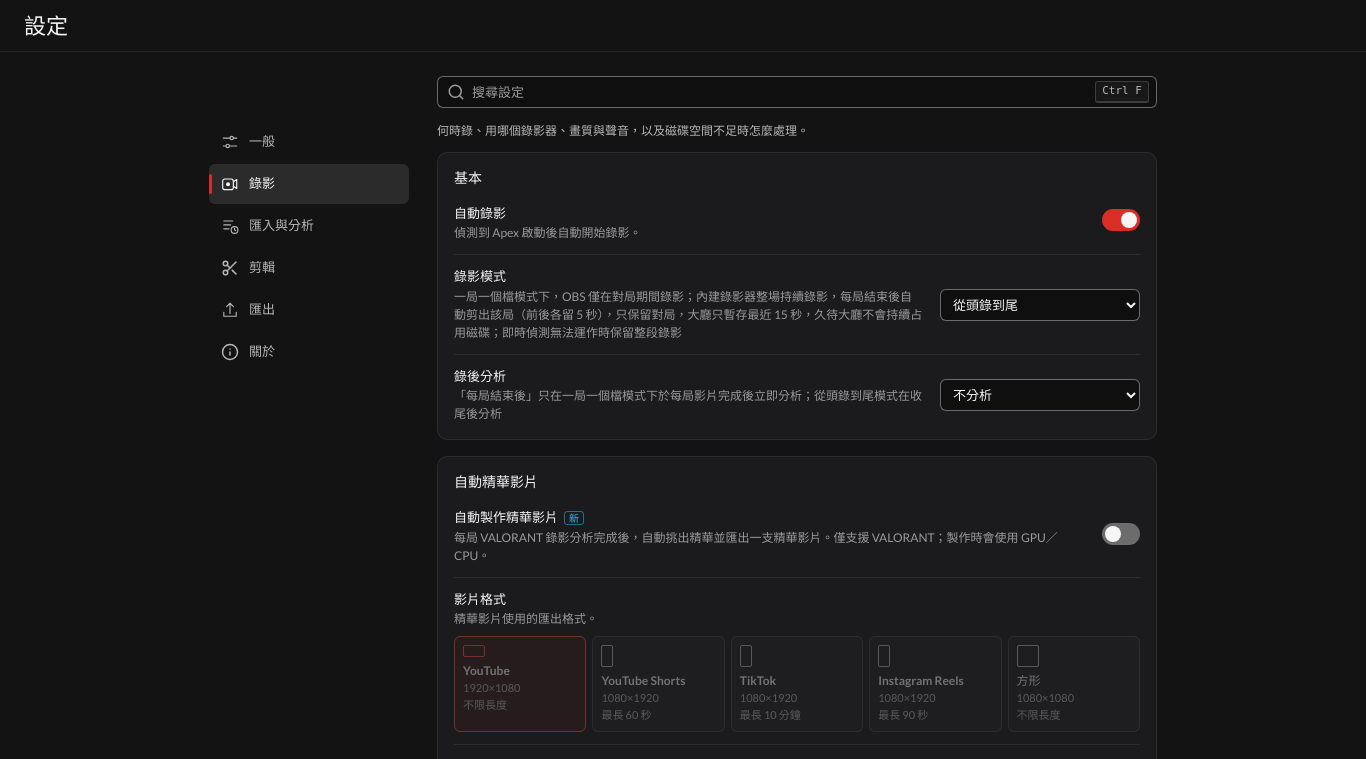
Test case: Auto montage settings card › cancelling the analysis confirm (button or Esc) saves nothing and returns focus to the switch
The image size is (1366, 759).
Click the switch labelled "自動製作精華影片". click: click(1121, 534)
box: [1102,523,1140,545]
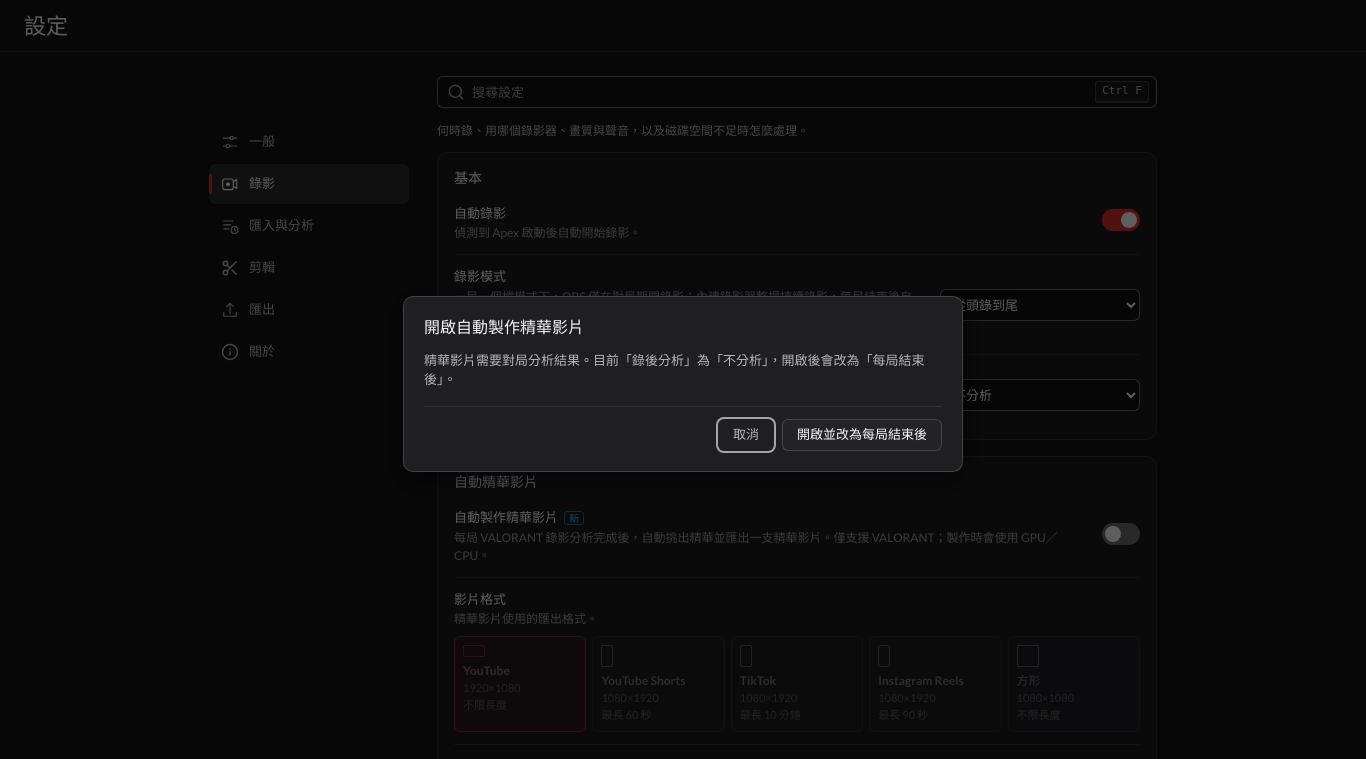
Click the button with id "set-autoMontage-enabled-confirm-cancel". click: click(746, 435)
box: [718,419,774,451]
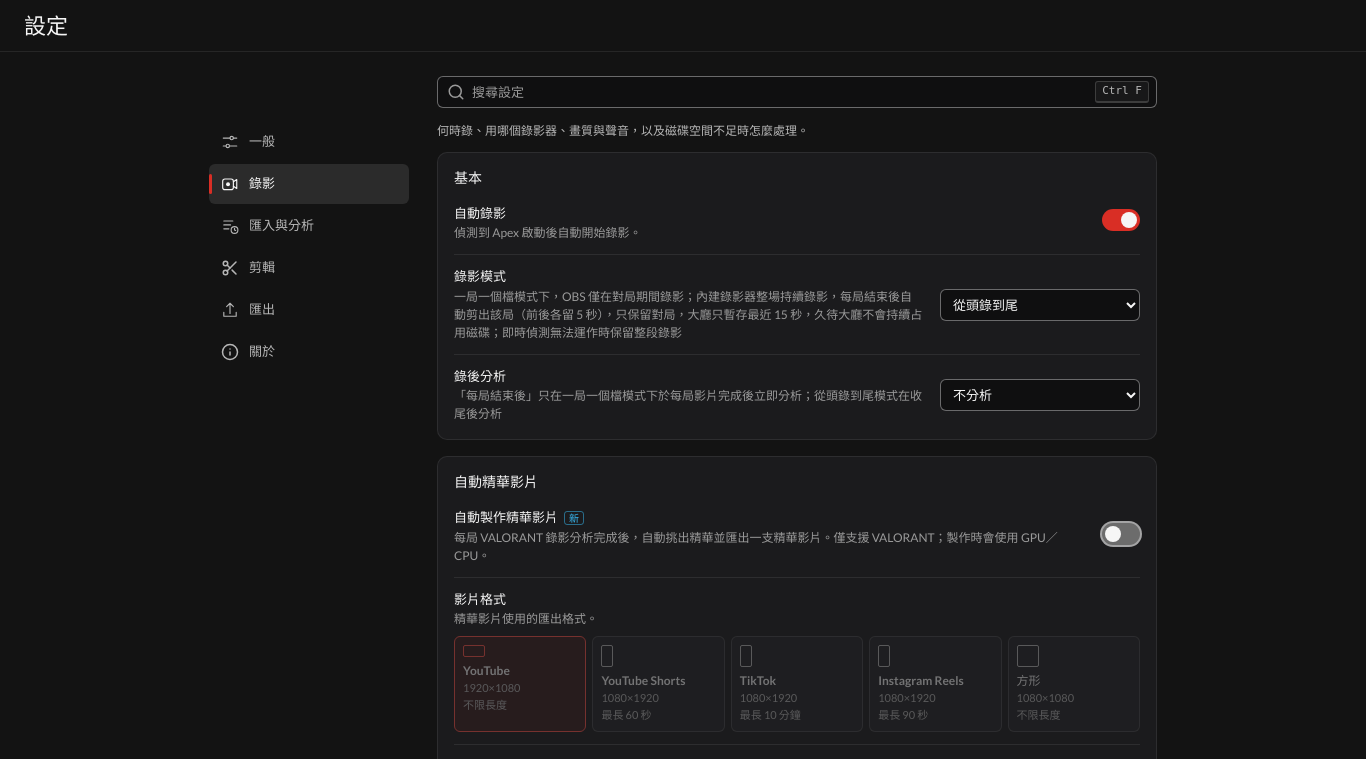
Now the dialog is gone
Click the switch labelled "自動製作精華影片". click: click(1121, 534)
box: [1102,523,1140,545]
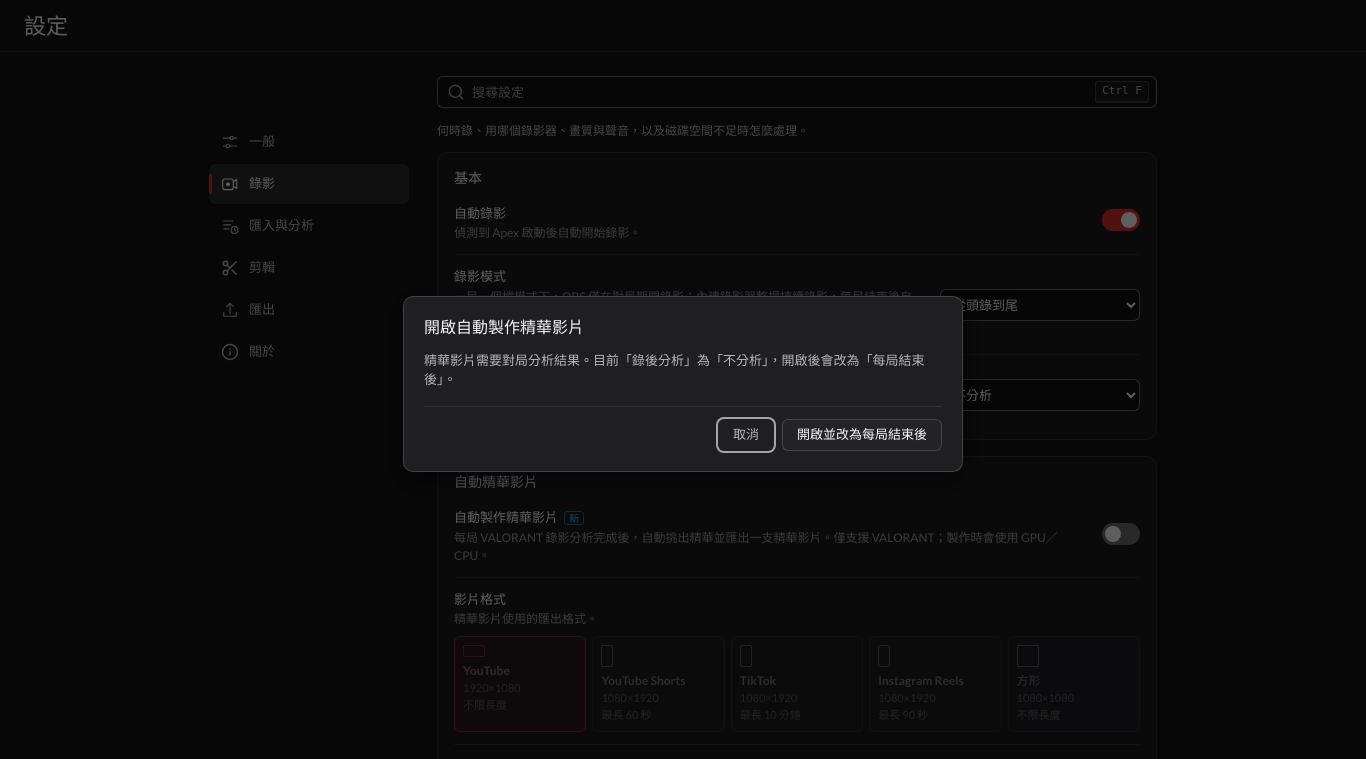
Press Escape in the button "取消", box [718,419,774,451]
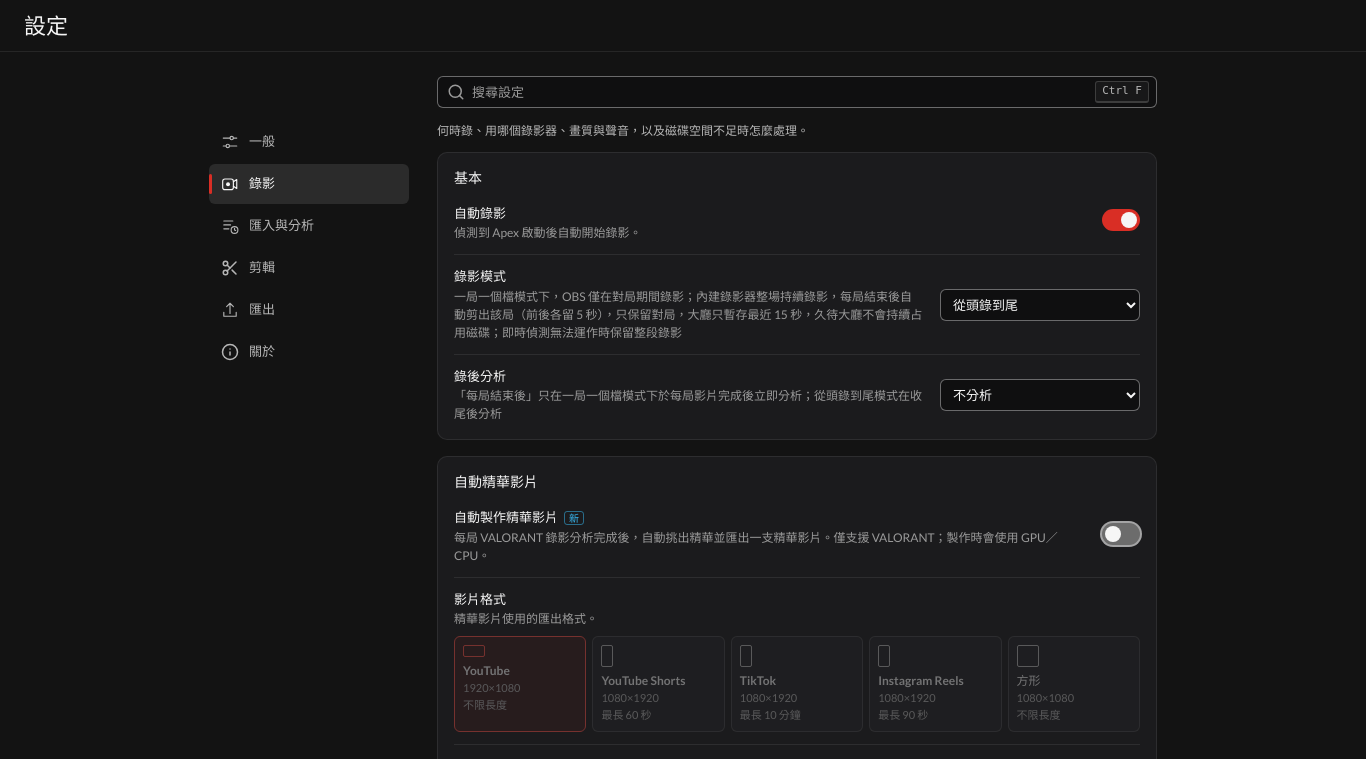
Now the dialog is gone
